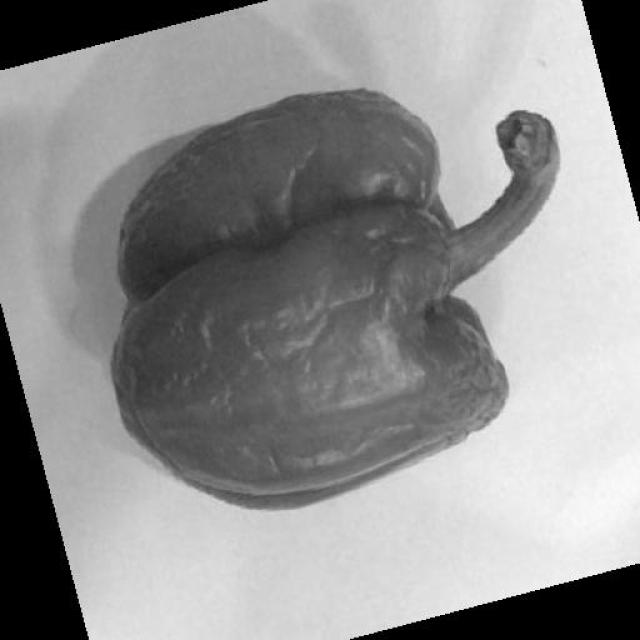Stale_Capsicum: (96, 92, 556, 514)
